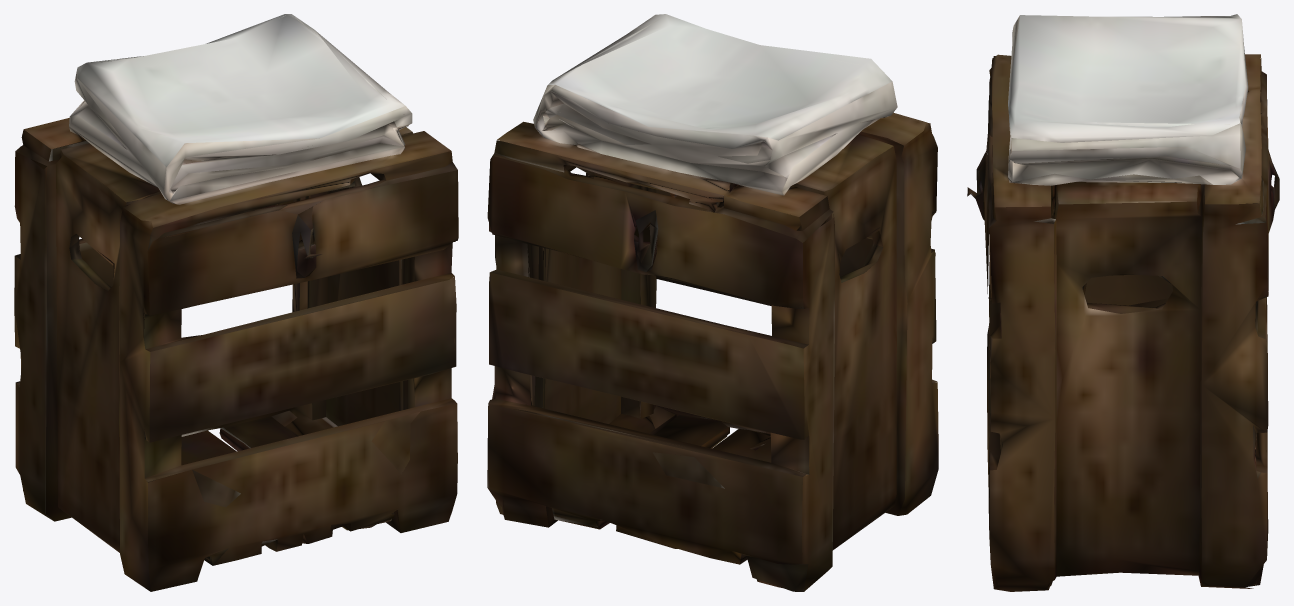
File: pedestal.movil.glb
3 views of the same model, side by side, from view 1: azimuth 30°, elevation 25°; view 2: azimuth 150°, elevation 25°; view 3: azimuth 270°, elevation 25° (orthographic). The views are drawn at different scales.
Visible parts, largest first — view 1: geometry_0; view 2: geometry_0; view 3: geometry_0.
Part boxes in pixels (x1,y1,x2,y2): geometry_0: (14,14,458,591); geometry_0: (487,14,938,591); geometry_0: (967,14,1279,591).
Bounding box in the file's own units: 0.5989 × 0.7949 × 0.4995.
1 material, 1 textured.
